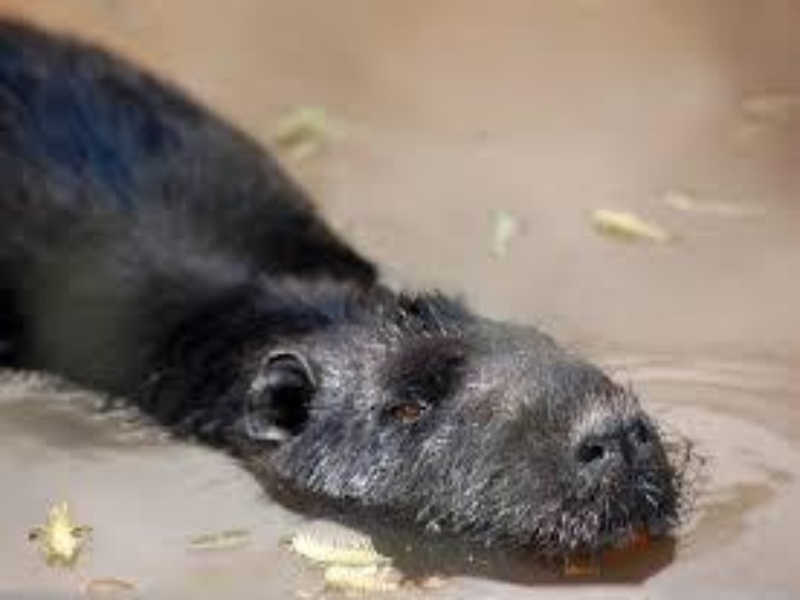minkish: (1, 9, 685, 553)
